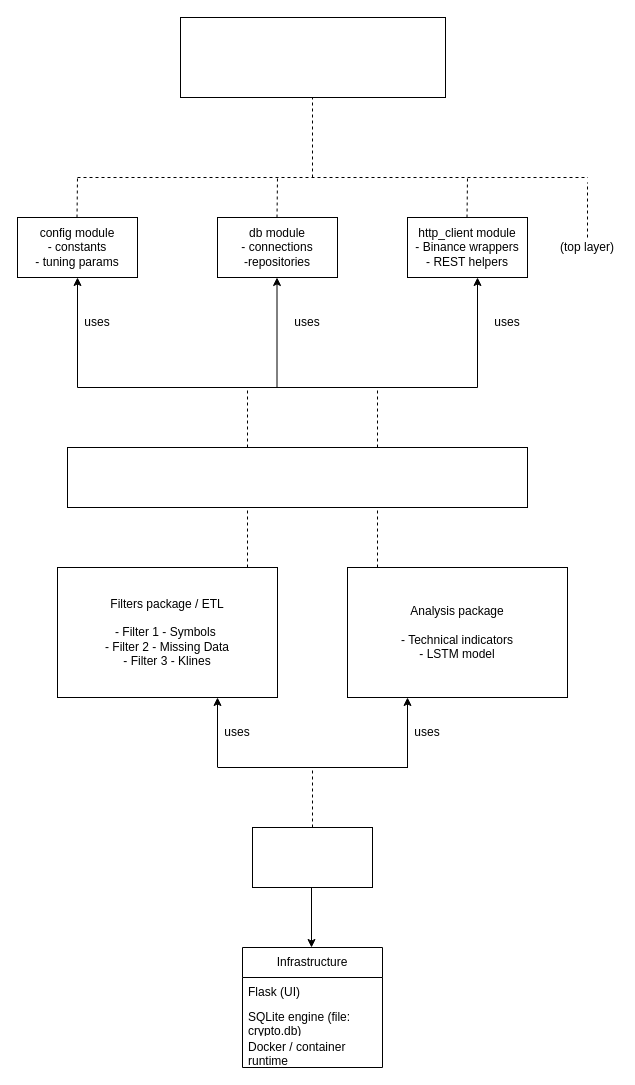
This 635x1085 diagram has some shape labels left out. Here are the shapes that lost their labels. From the top down, the centre of each, then its label:
the point at 313,57: Application Modules
the point at 297,477: Core Logic
the point at 312,857: webapp package - Flask routes - templates
